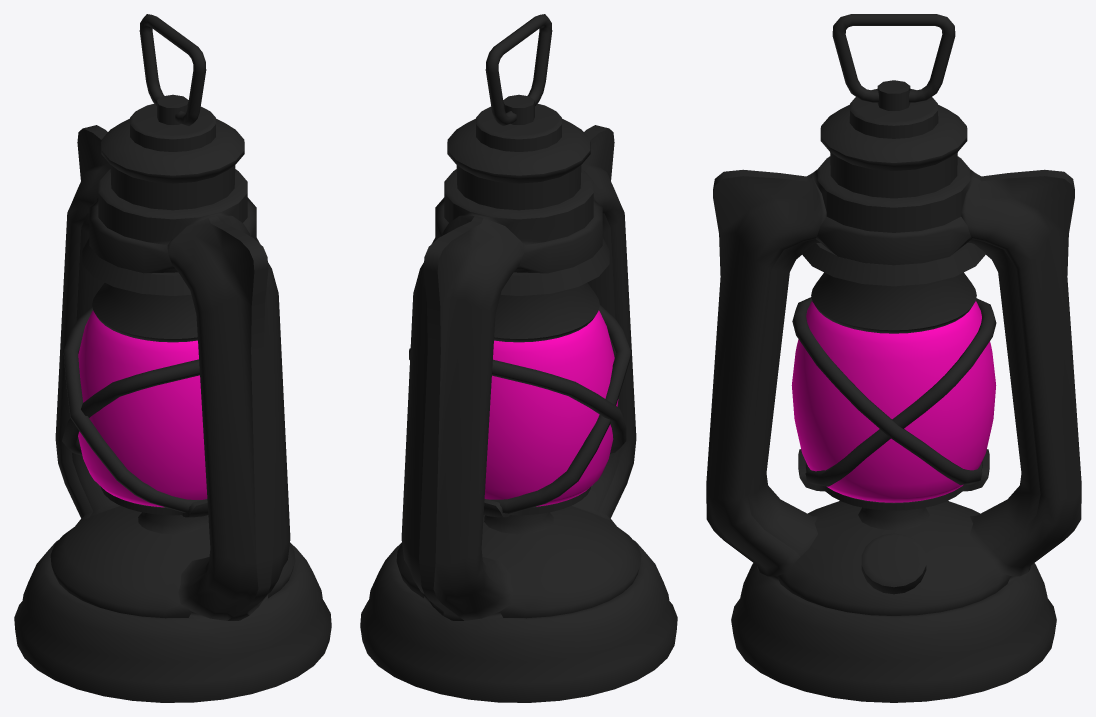
File: SM_Lantern.FBX
3 views of the same model, side by side, from view 1: azimuth 30°, elevation 25°; view 2: azimuth 150°, elevation 25°; view 3: azimuth 270°, elevation 25° (orthographic). The views are drawn at different scales.
Visible parts, largest first — view 1: Lantern, Cylinder043; view 2: Lantern, Cylinder043; view 3: Lantern, Cylinder043.
Boxes of the visible parts, x1,y1,x2,y2 form: Lantern: (14, 14, 331, 702); Cylinder043: (78, 310, 207, 507); Lantern: (360, 14, 677, 702); Cylinder043: (484, 310, 618, 506); Lantern: (706, 14, 1081, 702); Cylinder043: (791, 301, 996, 502).
Size of the model in its own units: 24.25 by 51.15 by 27.94.
